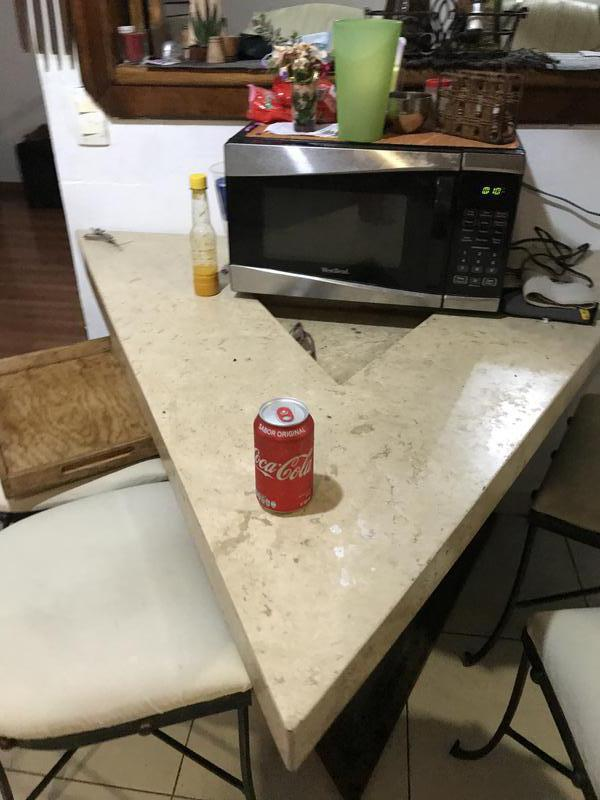coca_cola: (252, 398, 315, 513)
